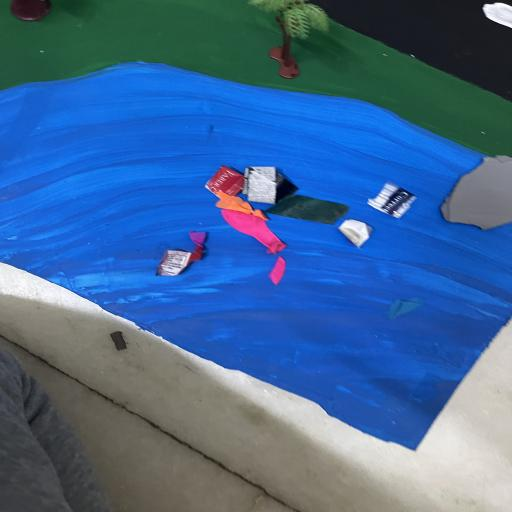encroachment: (442, 156, 512, 230)
trash: (156, 166, 420, 289)
